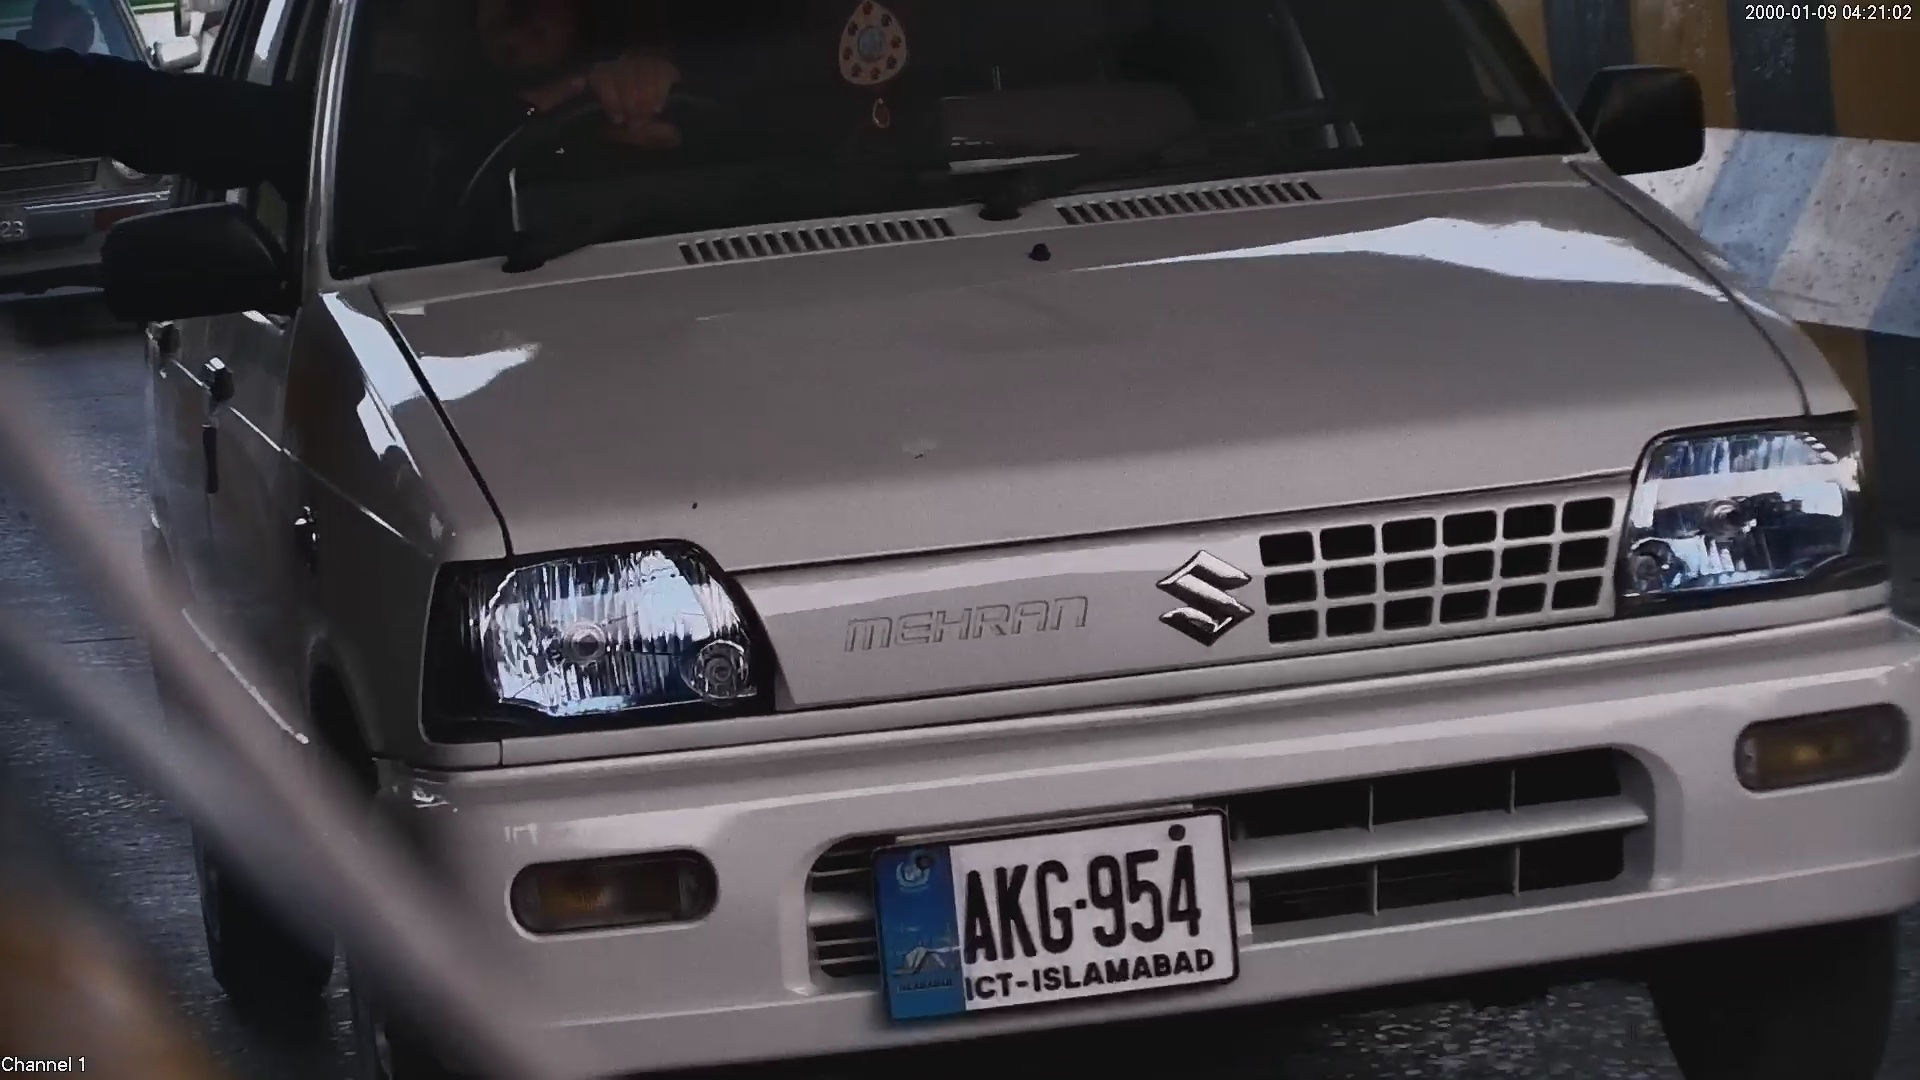Number_Plate: (852, 818, 1267, 1014)
Undefined: (419, 546, 780, 731), (1623, 412, 1871, 596), (489, 836, 739, 938), (1715, 699, 1920, 806), (821, 577, 1104, 653), (1154, 533, 1267, 664)
